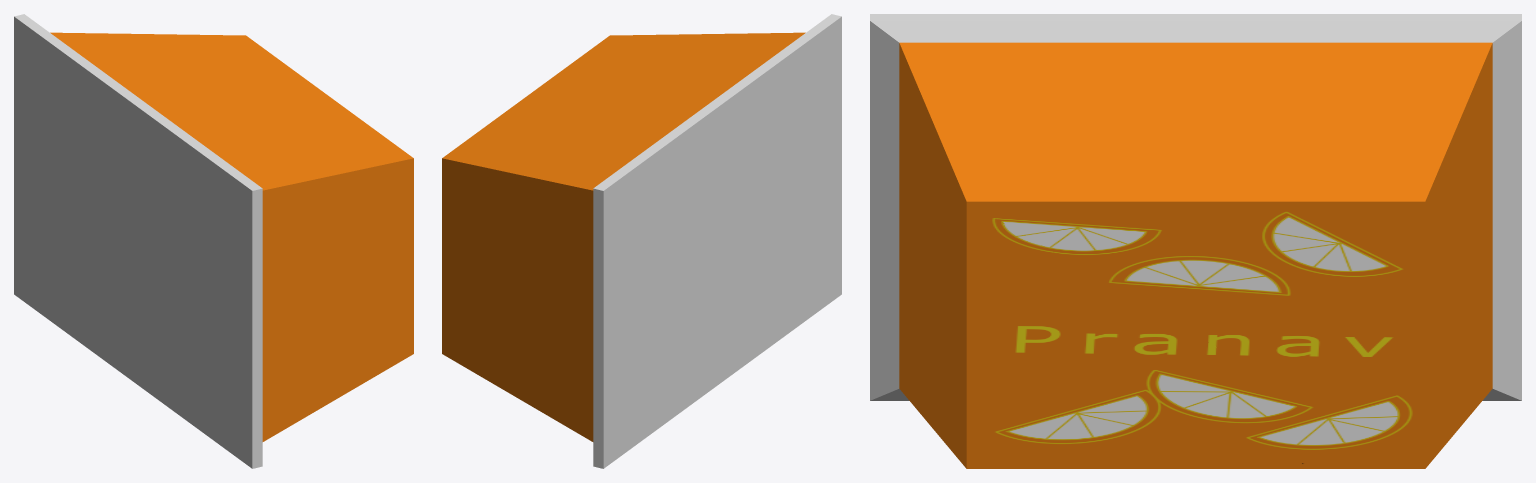
File: pranavButton.fbx
3 views of the same model, side by side, from view 1: azimuth 30°, elevation 25°; view 2: azimuth 150°, elevation 25°; view 3: azimuth 270°, elevation 25° (orthographic). The views are drawn at different scales.
Parts seen in each view (by area): view 1: Cube; view 2: Cube; view 3: Cube.
Part boxes in pixels (box(x1,y1,x2,y2)): Cube: box(14, 14, 413, 468); Cube: box(442, 14, 841, 468); Cube: box(870, 14, 1521, 468).
Size of the model in its own units: 160 by 216 by 336.
